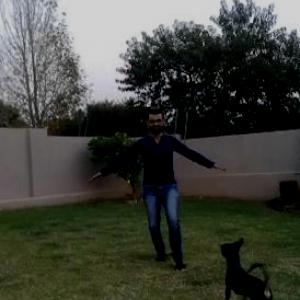land: (71, 77, 230, 290)
